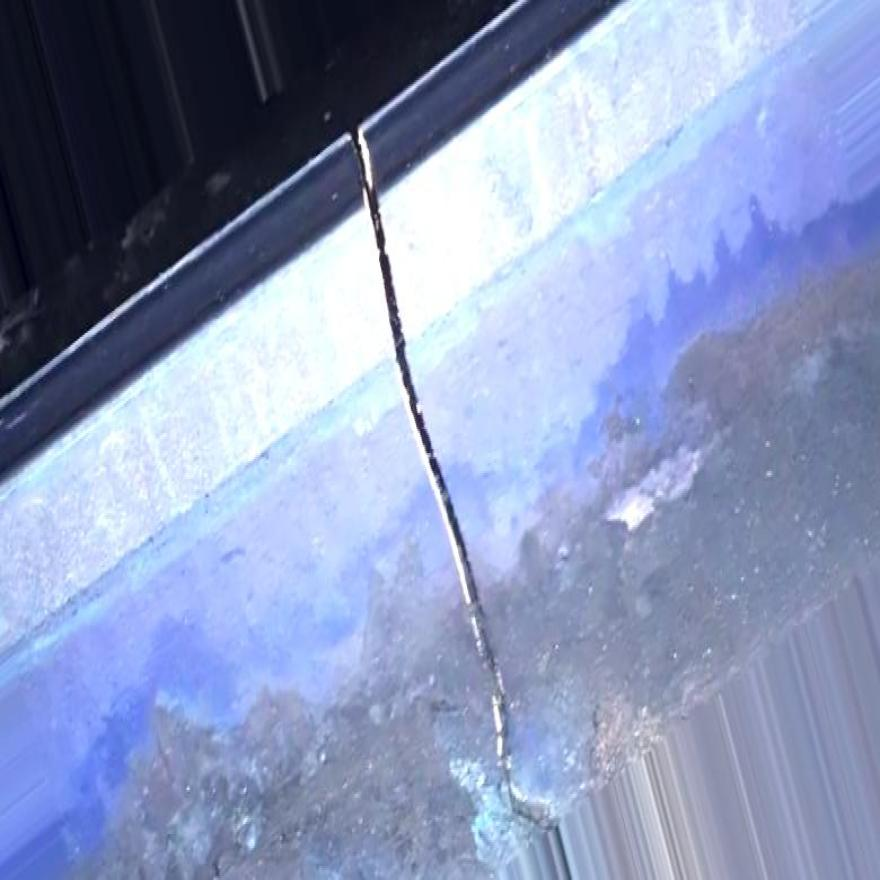railway-gap: (242, 128, 651, 849)
